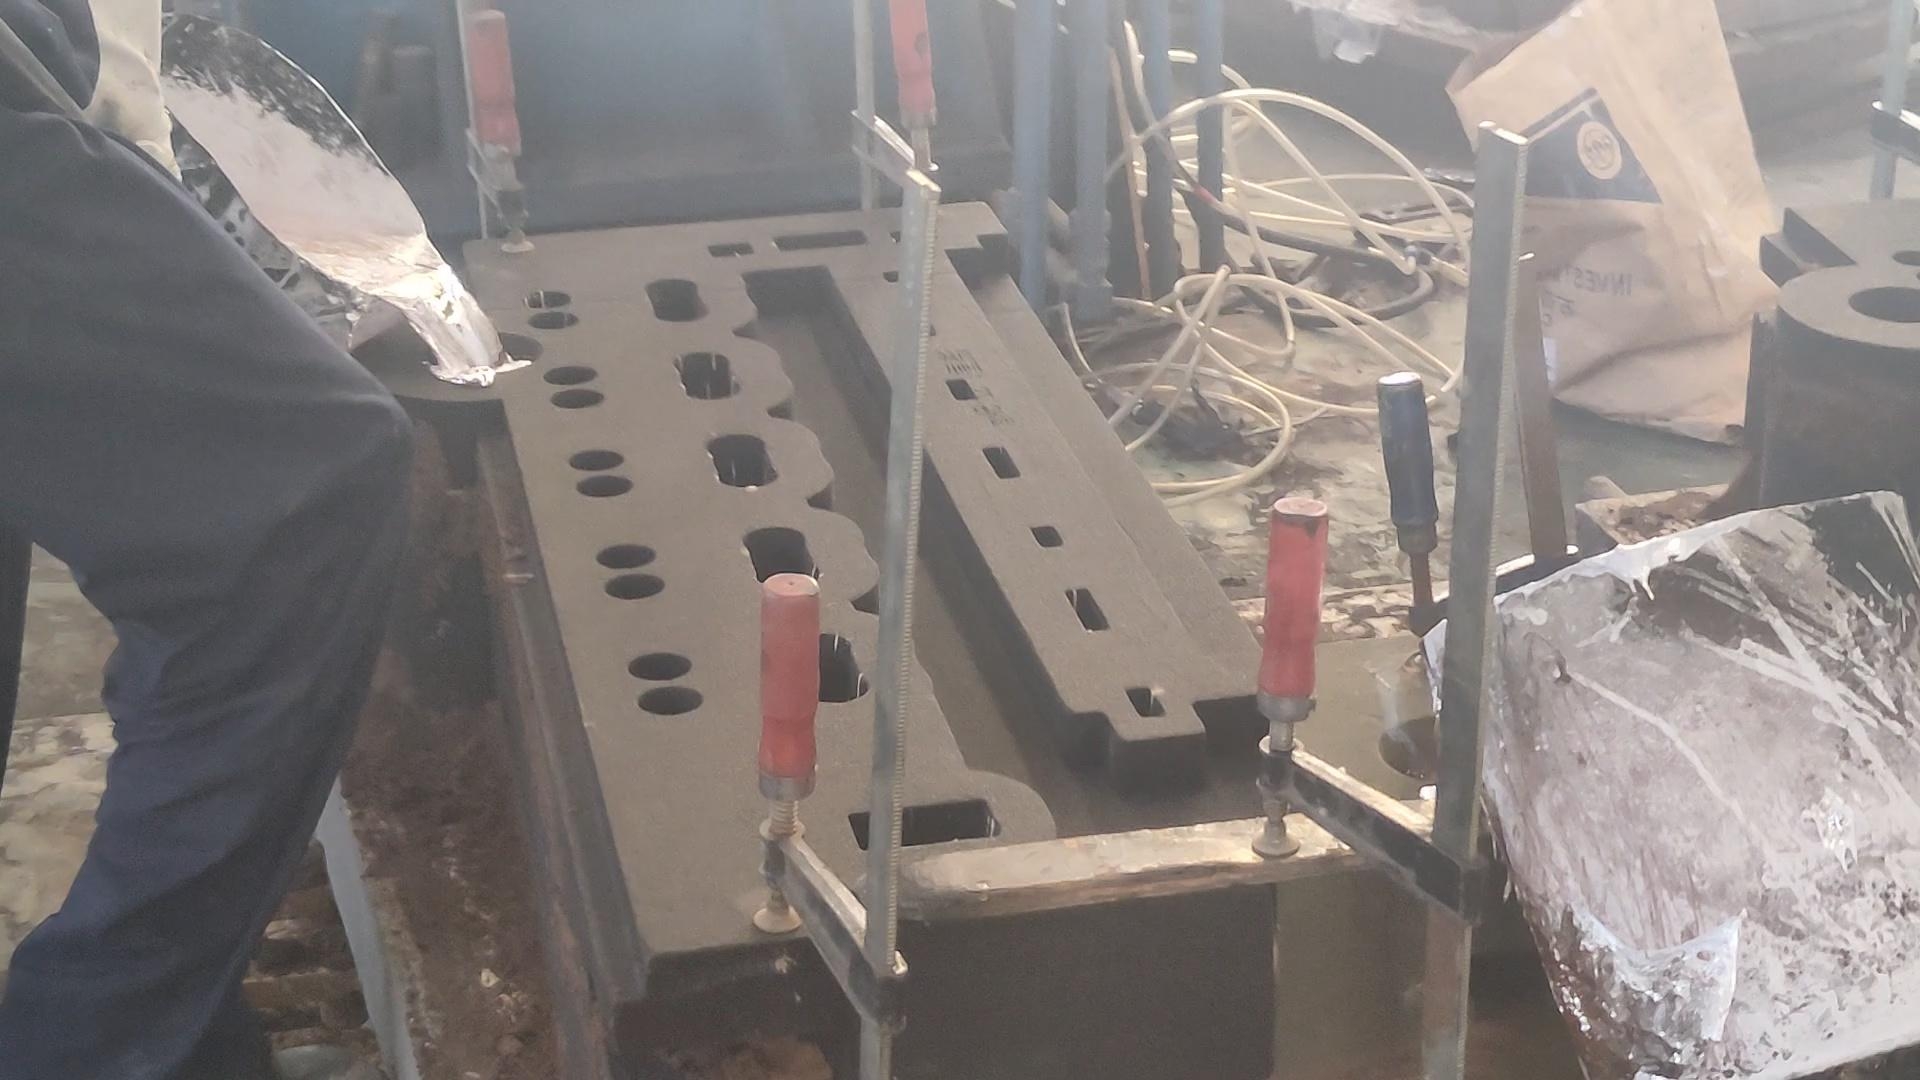pouring hole: (1378, 711, 1497, 787), (421, 328, 543, 381), (1845, 284, 1920, 324)
